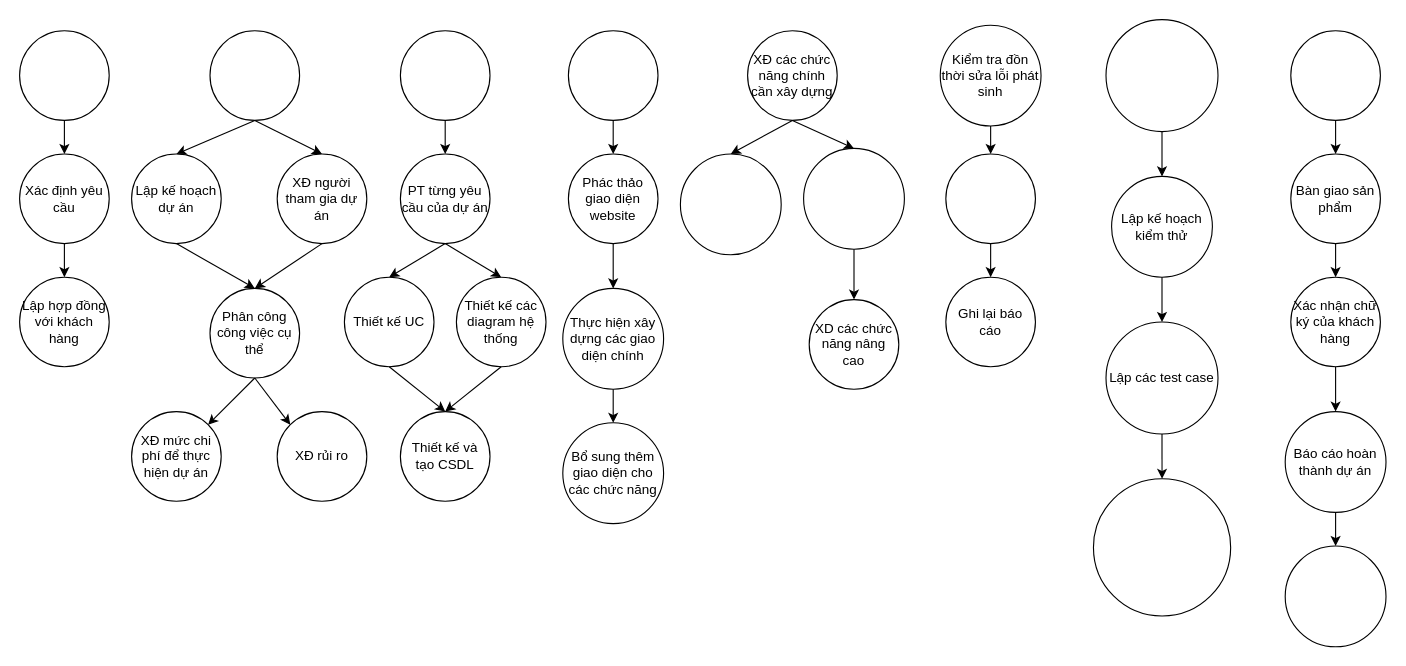
The diagram is 1406 pixels wide and 666 high, and some of its shapes have lost their labels. Each missing label, with the centre of its shape:
Cập nhật lại phần mềm nếu có lỗi: point (990, 198)
Lấy ý tưởng thiết kế giao diện: point (612, 75)
Lần lượt xây dựng các chức năng quản lý cơ bản: point (853, 198)
Thực hiện bảo trì cho dự án khi cần thiết: point (1335, 596)
Thực hiện các kiểm thử (đơn vị, tích hợp, hệ thống, hiệu suất, bảo mật): point (1161, 547)
Trao đổi trực tiếp với khách hàng: point (63, 75)
Tổng hợp yêu cầu: point (444, 75)
Viết tài liệu hướng dẫn: point (1335, 75)
XD chức năng đăng nhập, đăng ký: point (730, 204)
XĐ mục tiêu và đố tượng dự án: point (254, 75)
XĐ yêu cầu kiểm thử: point (1161, 75)
